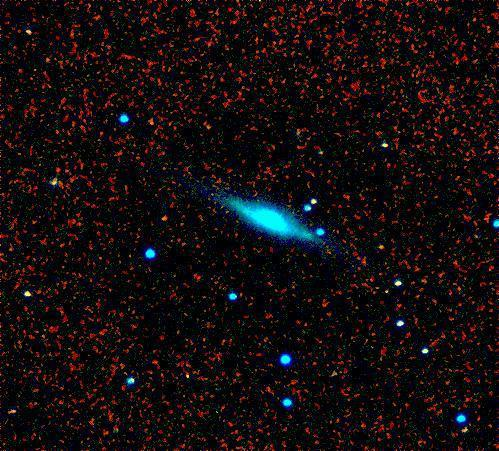star: (365, 229, 395, 259)
